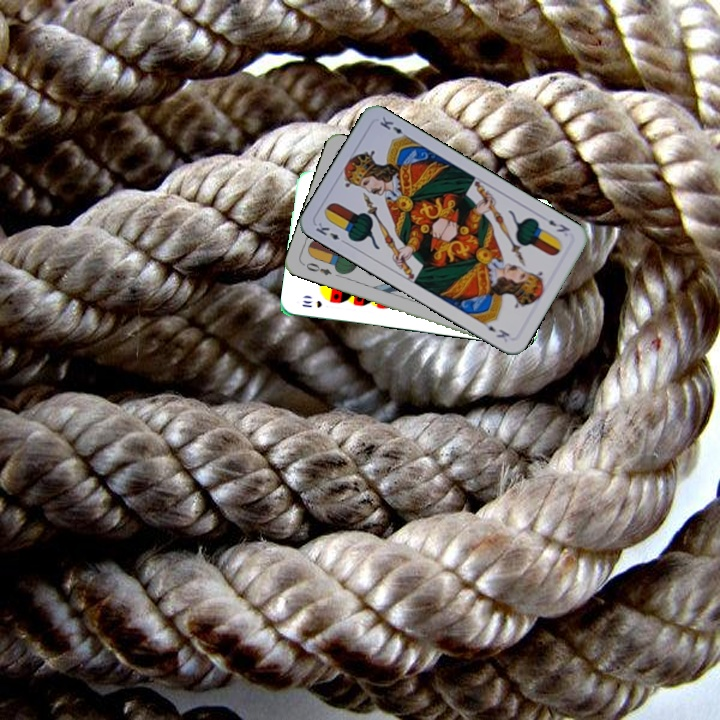EK: (312, 218, 350, 247), (545, 216, 572, 235)
EO: (299, 258, 334, 278)
S10: (298, 296, 324, 310)
